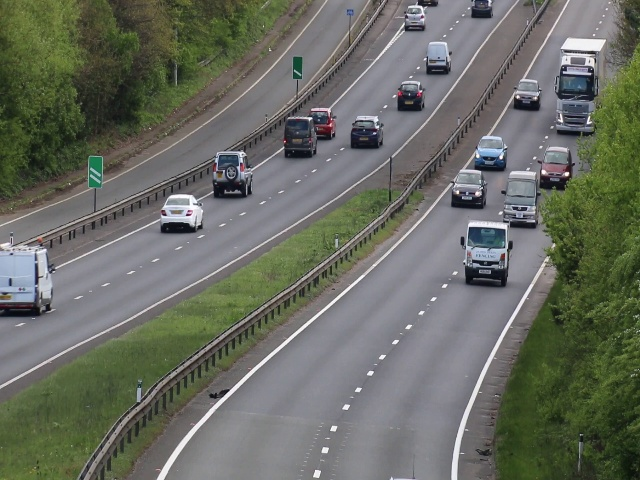car: (1, 244, 54, 316), (464, 221, 509, 286), (556, 71, 594, 135), (211, 149, 253, 198), (502, 172, 539, 227), (160, 191, 204, 236), (283, 115, 318, 158), (540, 146, 571, 187), (452, 170, 485, 208), (351, 115, 384, 149), (475, 135, 507, 169), (396, 79, 427, 113), (425, 40, 452, 76), (513, 78, 541, 110), (313, 106, 337, 140), (404, 5, 426, 34)
